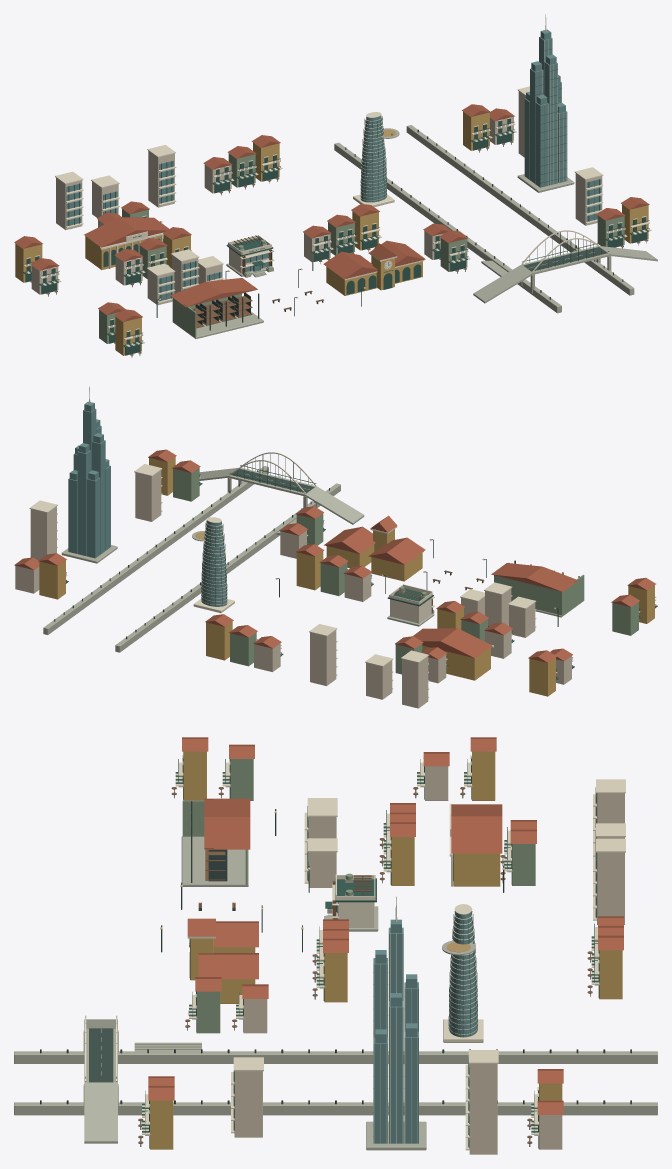
The model's file is district1.glb.
The picture shows the model from 3 angles, top to bottom: view 1: azimuth 30°, elevation 25°; view 2: azimuth 150°, elevation 25°; view 3: azimuth 270°, elevation 25°; orthographic projection. The views are drawn at different scales.
Parts seen in each view (by area): view 1: District1_Architecture; view 2: District1_Architecture; view 3: District1_Architecture.
Boxes of the visible parts, x1,y1,x2,y2 form: District1_Architecture: [14, 14, 657, 357]; District1_Architecture: [14, 386, 657, 708]; District1_Architecture: [14, 737, 657, 1154].
Bounding box in the file's own units: 130 × 41.04 × 96.
